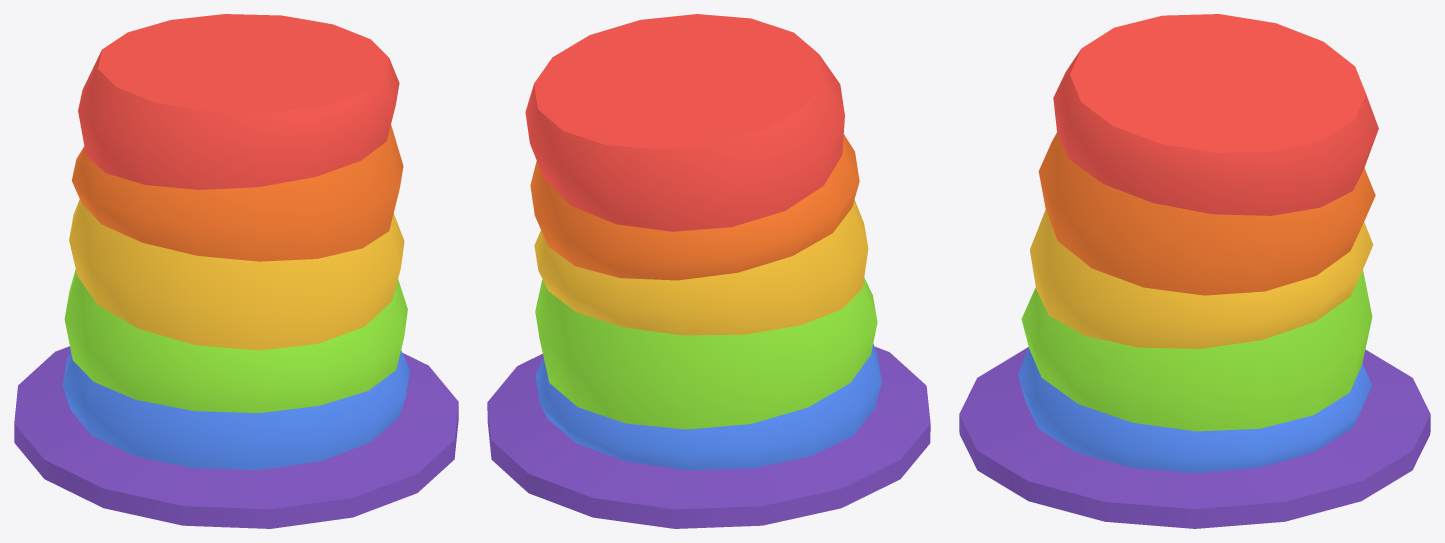
The model's file is accessory-rainbowtophat.glb.
3 views of the same model, side by side, from view 1: azimuth 30°, elevation 25°; view 2: azimuth 150°, elevation 25°; view 3: azimuth 270°, elevation 25° (orthographic).
Visible parts, largest first — view 1: accessory__JA_m_Hat20__0; view 2: accessory__JA_m_Hat20__0; view 3: accessory__JA_m_Hat20__0.
Boxes of the visible parts, bbox=[...] form: accessory__JA_m_Hat20__0: bbox=[14, 14, 458, 528]; accessory__JA_m_Hat20__0: bbox=[487, 14, 930, 528]; accessory__JA_m_Hat20__0: bbox=[959, 14, 1430, 528].
Size of the model in its own units: 0.7156 by 0.6535 by 0.7513.
